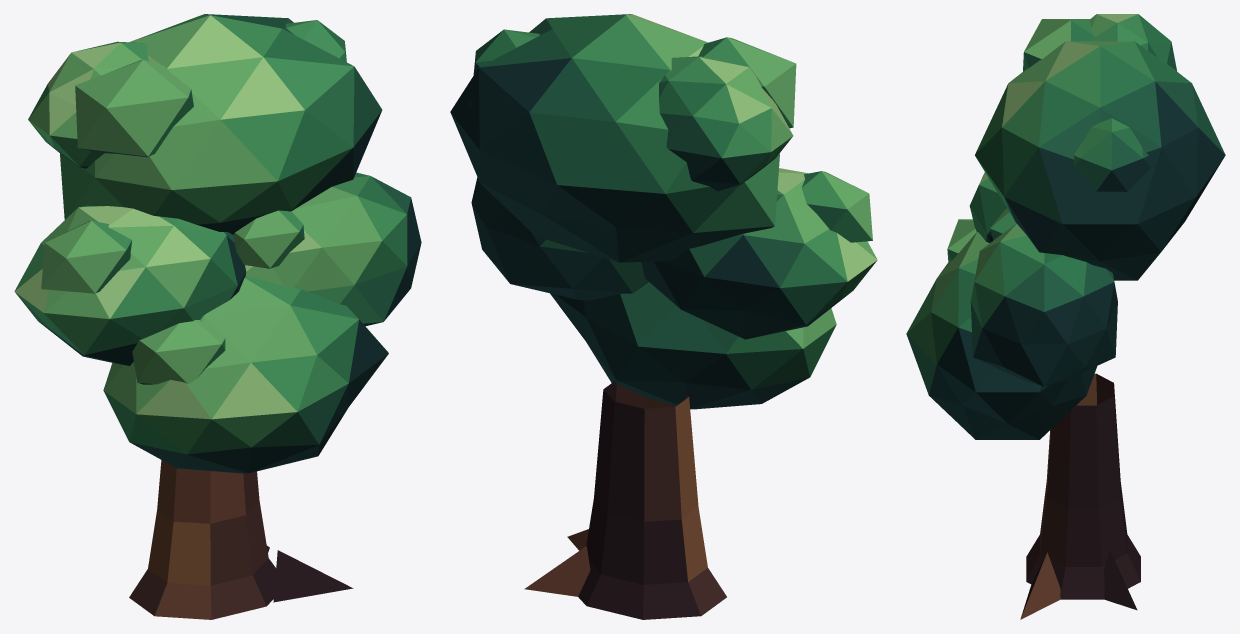
Rendered from tree_tree22.glb.
The picture shows the model from 3 angles, left to right: view 1: azimuth 30°, elevation 25°; view 2: azimuth 150°, elevation 25°; view 3: azimuth 270°, elevation 25°; orthographic projection. The views are drawn at different scales.
Visible parts, largest first — view 1: tree22; view 2: tree22; view 3: tree22.
Boxes of the visible parts, <box> form: tree22: <box>14,14,421,619</box>; tree22: <box>450,14,877,619</box>; tree22: <box>906,14,1225,619</box>.
Bounding box in the file's own units: 1.02 × 1.45 × 0.797.
